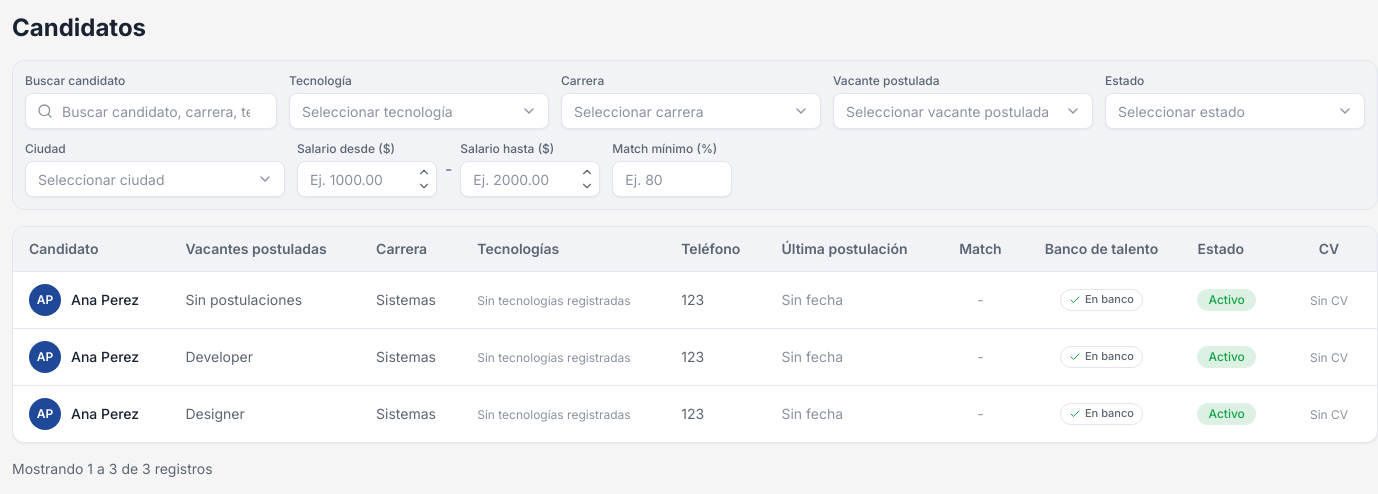
Scenario: Candidate city and salary filters › searches city options by typing and applies the selected city
Step 1. Type "guaya" into the dropdown named "Filtrar por ciudad" → (155, 179), box [25,161,285,197]
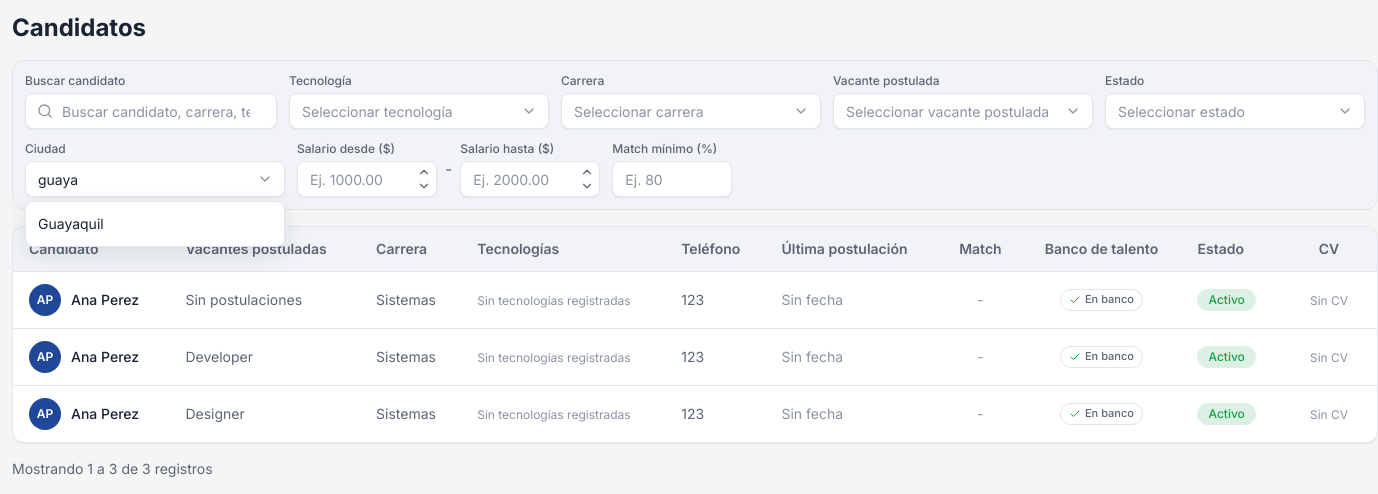
expect the option "Guayaquil" is shown: met
Step 2. Press the mouse on the option "Guayaquil" → (71, 224), box [38,215,104,232]
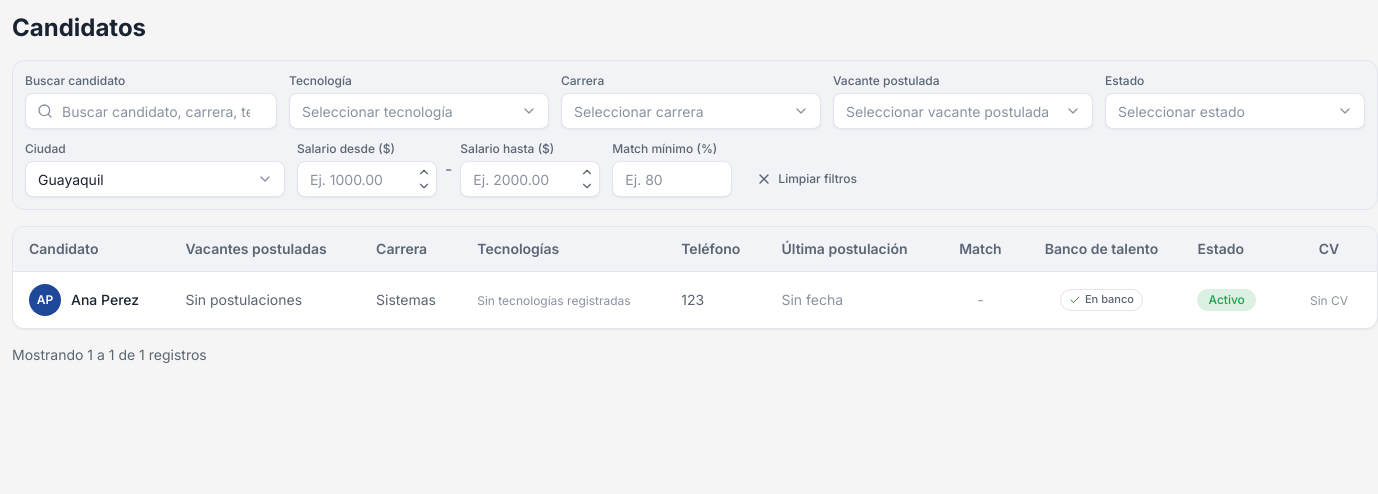
Step 3. Click the button "Limpiar filtros" → (807, 179), box [744,161,869,197]
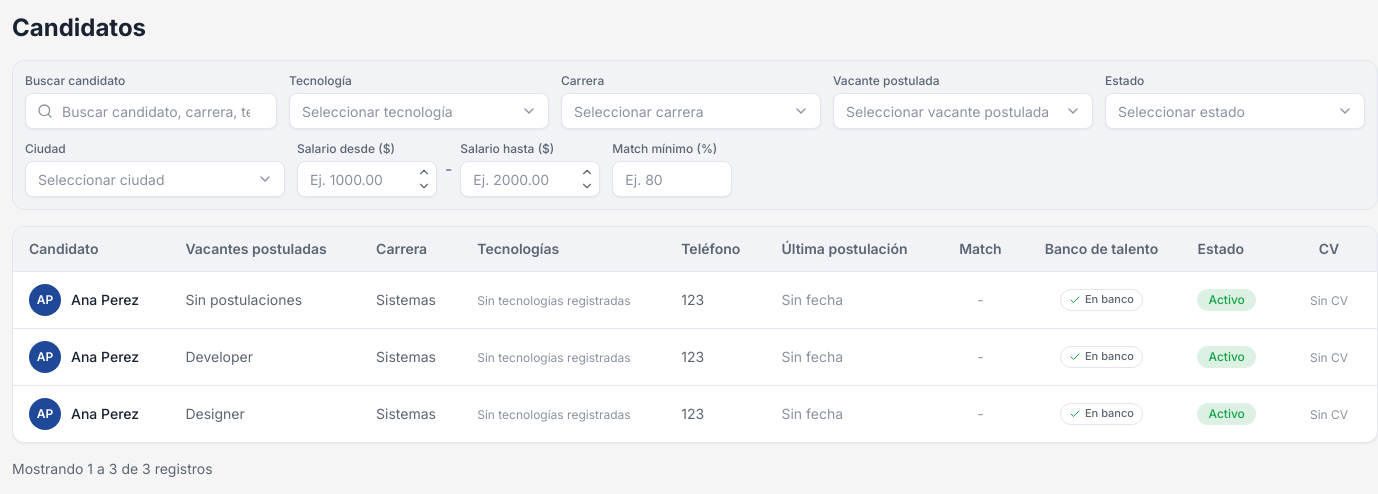
expect the dropdown named "Filtrar por ciudad" is empty: met, box [25,161,285,197]
